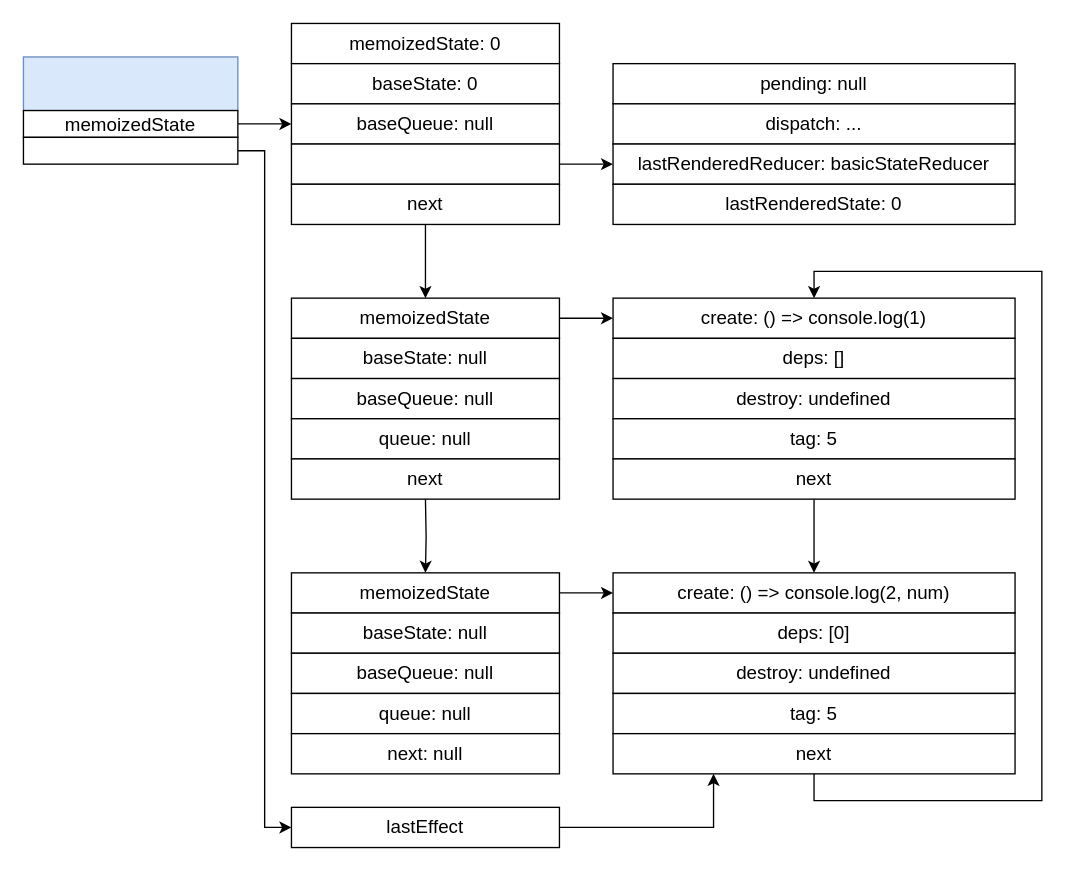
Some shapes in this 1076 by 871 pixel diagram are drawn without their labels. Here are the shapes that lost their labels. From the top down, the centre of each, then its label:
At point 130,83: "App".
At point 130,150: "updateQueue".
At point 424,163: "queue".
